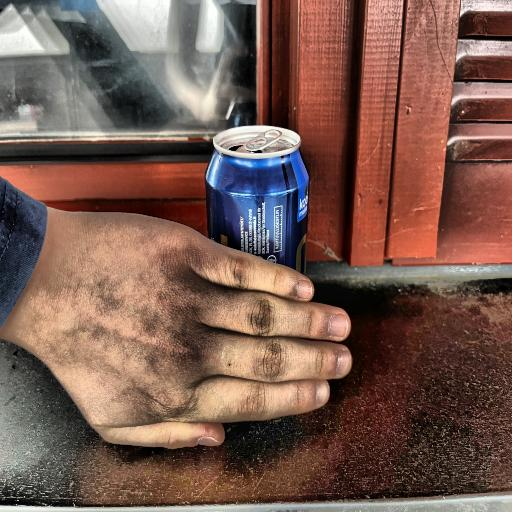koti: (193, 130, 320, 420)
